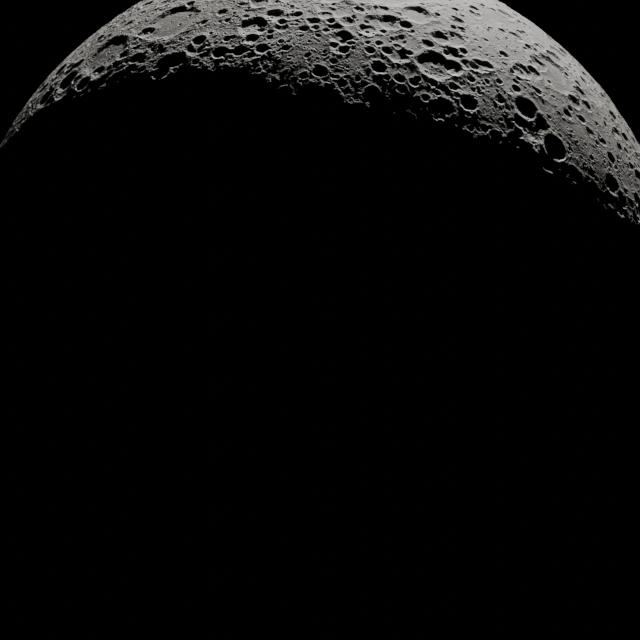crater: (136, 3, 196, 39), (91, 30, 131, 69), (418, 49, 462, 82), (538, 126, 570, 165), (512, 94, 542, 119), (236, 15, 266, 35), (403, 4, 434, 23), (457, 90, 481, 114), (602, 171, 622, 199), (326, 29, 356, 45), (471, 56, 498, 72), (367, 58, 388, 77), (388, 69, 407, 90), (70, 74, 92, 92), (138, 22, 157, 40), (563, 93, 582, 111), (208, 44, 225, 62), (118, 46, 135, 62), (238, 34, 264, 44), (334, 43, 352, 57), (252, 43, 272, 55), (214, 7, 230, 21), (311, 63, 327, 77), (228, 46, 245, 59), (578, 99, 595, 112), (418, 37, 438, 48), (269, 7, 284, 21), (360, 24, 376, 37), (303, 15, 325, 24), (602, 151, 618, 163), (192, 33, 206, 46), (597, 134, 610, 148), (609, 124, 622, 138), (581, 126, 597, 136), (573, 115, 586, 126), (225, 32, 235, 45), (379, 46, 395, 54), (298, 24, 310, 34), (301, 51, 314, 60), (608, 108, 616, 122), (300, 69, 310, 79)
